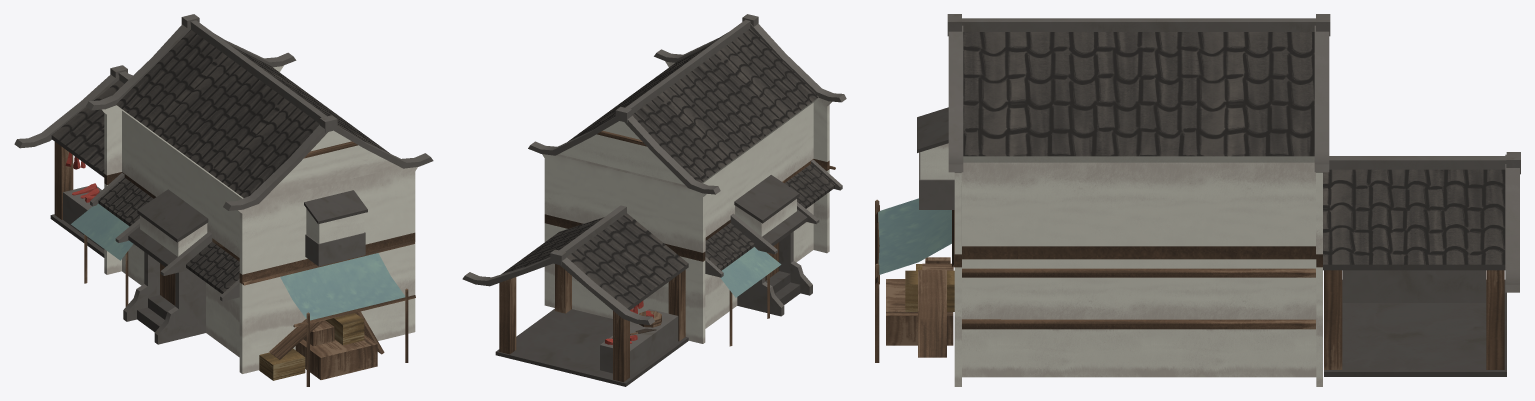
File: MinJu02.fbx
3 renders of one model, left to right at view 1: azimuth 30°, elevation 25°; view 2: azimuth 150°, elevation 25°; view 3: azimuth 270°, elevation 25°, orthographic. The views are drawn at different scales.
Parts seen in each view (by area): view 1: minju02; view 2: minju02; view 3: minju02.
Part boxes in pixels (bbox=[...]): minju02: bbox=[14, 14, 433, 386]; minju02: bbox=[462, 14, 846, 386]; minju02: bbox=[875, 14, 1520, 386].
Bounding box in the file's own units: 207 × 208 × 389.
